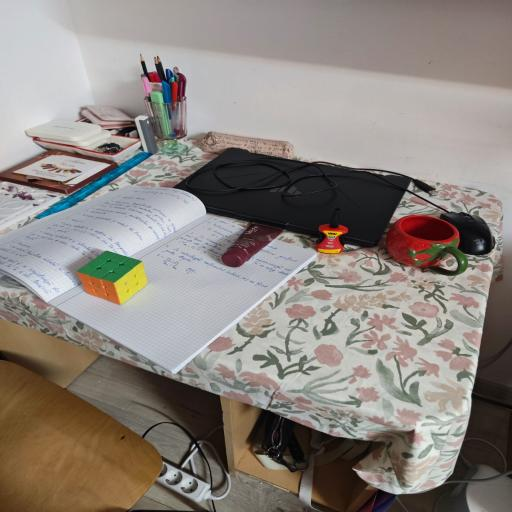Hand Cream: (221, 220, 281, 266)
Rubiks Cube: (78, 248, 148, 304)
Super Glue: (313, 207, 350, 256)
